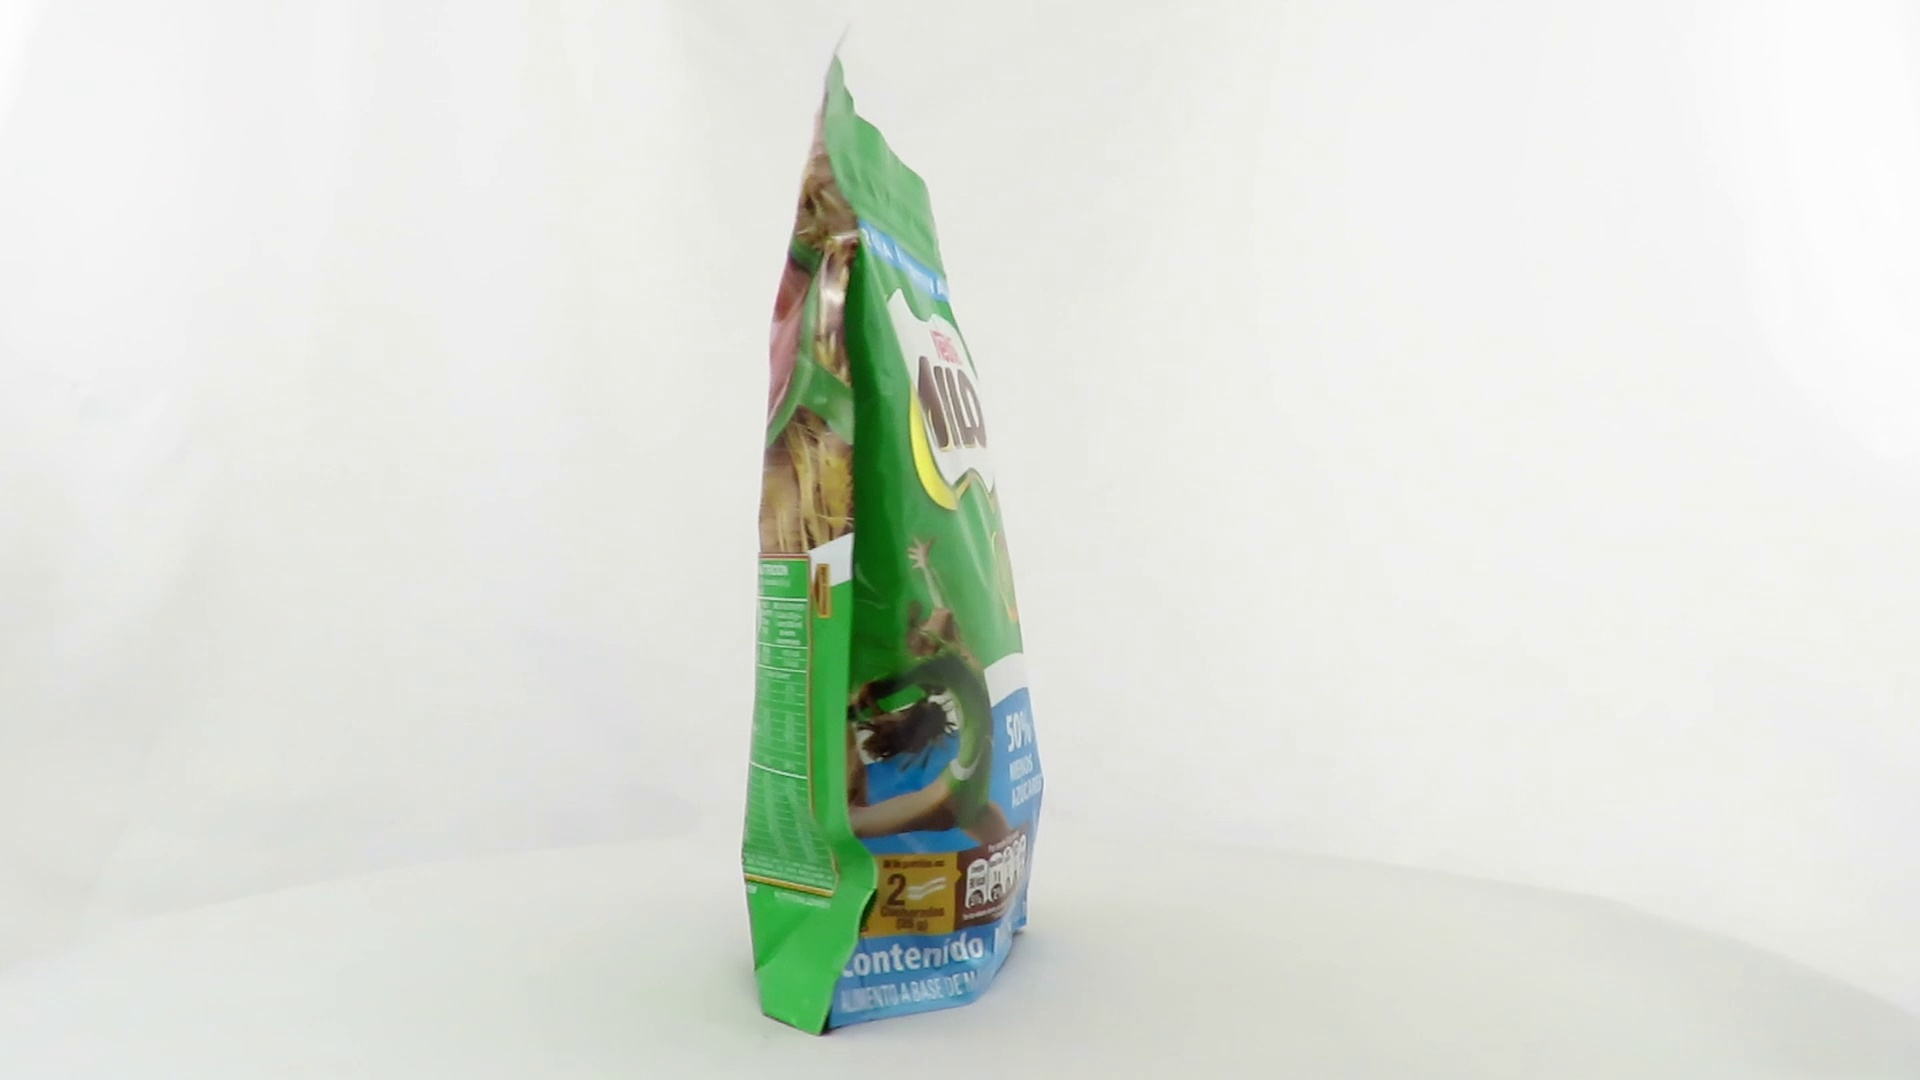COL0170205DYP50000: (736, 49, 1050, 1043)
